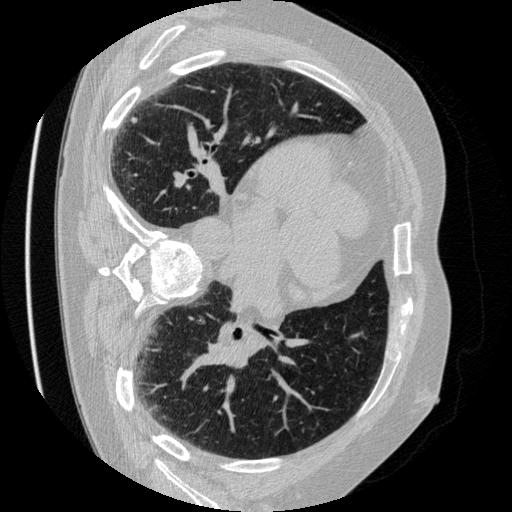nodule: (129, 116, 141, 128)
